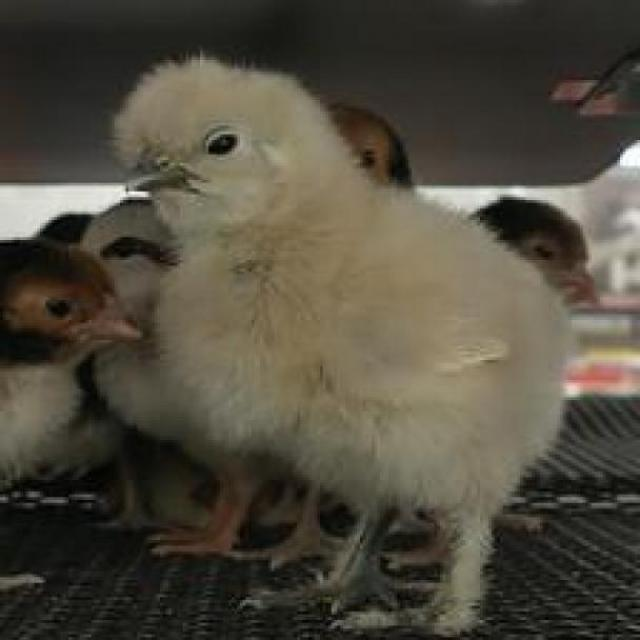Chicken: (103, 52, 609, 639)
